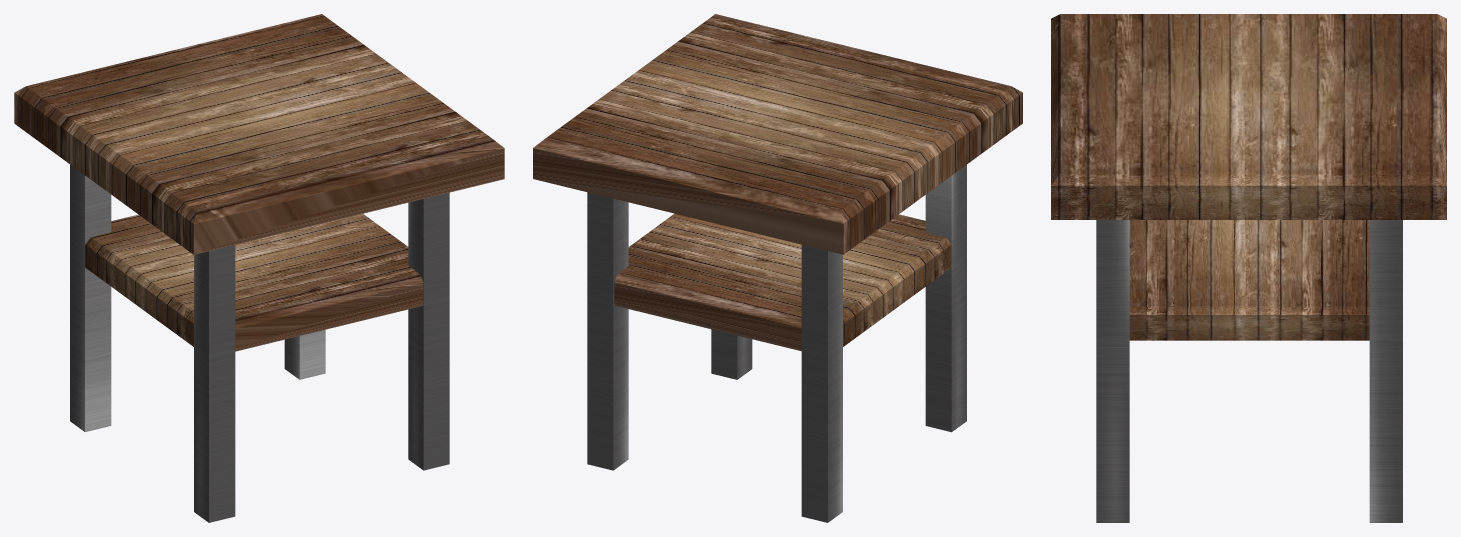
The model's file is DoubleDesk.fbx.
3 views of the same model, side by side, from view 1: azimuth 30°, elevation 25°; view 2: azimuth 150°, elevation 25°; view 3: azimuth 270°, elevation 25° (orthographic). The views are drawn at different scales.
Parts seen in each view (by area): view 1: pCube1, pCube2, pCube6, pCube3, pCube5, pCube4; view 2: pCube1, pCube2, pCube5, pCube4, pCube6, pCube3; view 3: pCube1, pCube2, pCube3, pCube4.
Part boxes in pixels (x1,y1,x2,y2): pCube1: [14, 14, 504, 254]; pCube2: [85, 214, 423, 351]; pCube6: [194, 245, 235, 522]; pCube3: [408, 192, 449, 470]; pCube5: [70, 164, 111, 431]; pCube4: [284, 329, 325, 379]; pCube1: [533, 14, 1022, 254]; pCube2: [614, 213, 951, 351]; pCube5: [801, 244, 842, 522]; pCube4: [587, 192, 628, 470]; pCube6: [925, 165, 966, 432]; pCube3: [711, 329, 752, 379]; pCube1: [1051, 14, 1446, 219]; pCube2: [1129, 220, 1369, 340]; pCube3: [1096, 220, 1129, 522]; pCube4: [1369, 220, 1402, 522].
Size of the model in its own units: 7.46 by 7.57 by 7.46.
